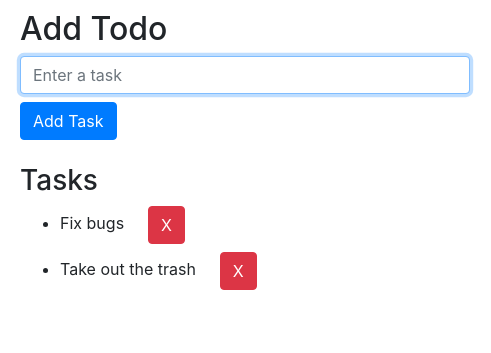
it: Todos › Form › should a new item by typing item name and clicking button
The image size is (491, 353).
Type "Visit a drug store" into the field with placeholder "Enter a task" at (245, 75), box x1=20 y1=56 x2=470 y2=94
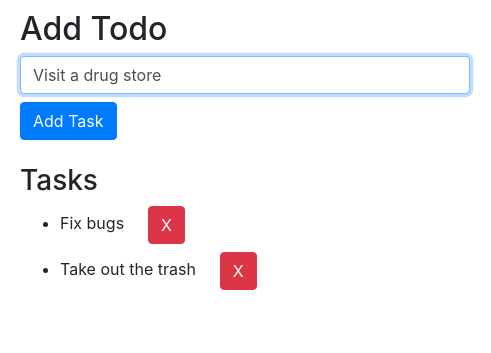
Click the submit button at (68, 121), box x1=20 y1=102 x2=116 y2=140
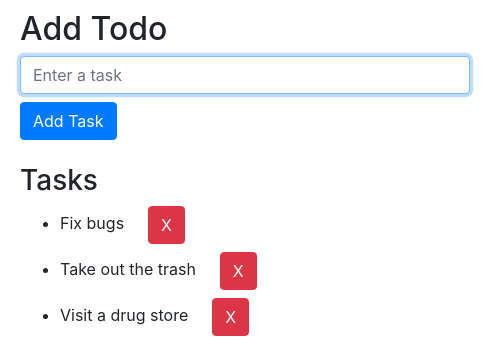
Expected: the number of list items is 3, x1=60 y1=206 x2=185 y2=244
Result: the text "Visit a drug store" is shown at x1=60 y1=305 x2=188 y2=325
